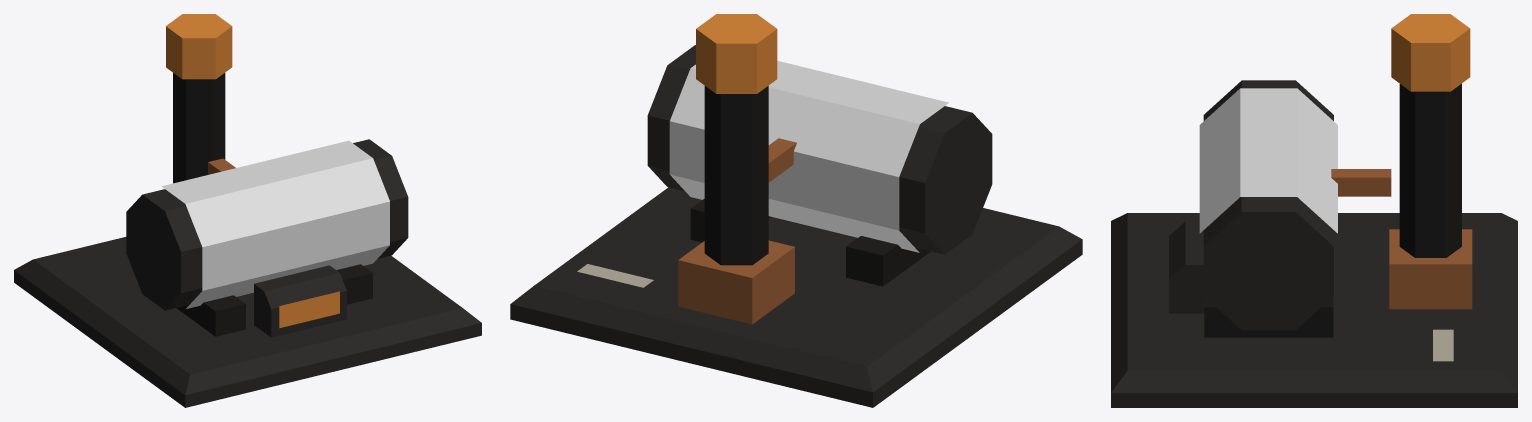
File: str_t1_pgen.22648532.raw.glb
The picture shows the model from 3 angles, left to right: view 1: azimuth 30°, elevation 25°; view 2: azimuth 150°, elevation 25°; view 3: azimuth 270°, elevation 25°; orthographic projection. The views are drawn at different scales.
Parts seen in each view (by area): view 1: lod0; view 2: lod0; view 3: lod0.
Part boxes in pixels (bbox=[...]): lod0: bbox=[14, 14, 481, 407]; lod0: bbox=[510, 14, 1082, 407]; lod0: bbox=[1111, 14, 1517, 407].
Size of what is drawn, in the model's own units: 1.96 by 1.56 by 1.96.
